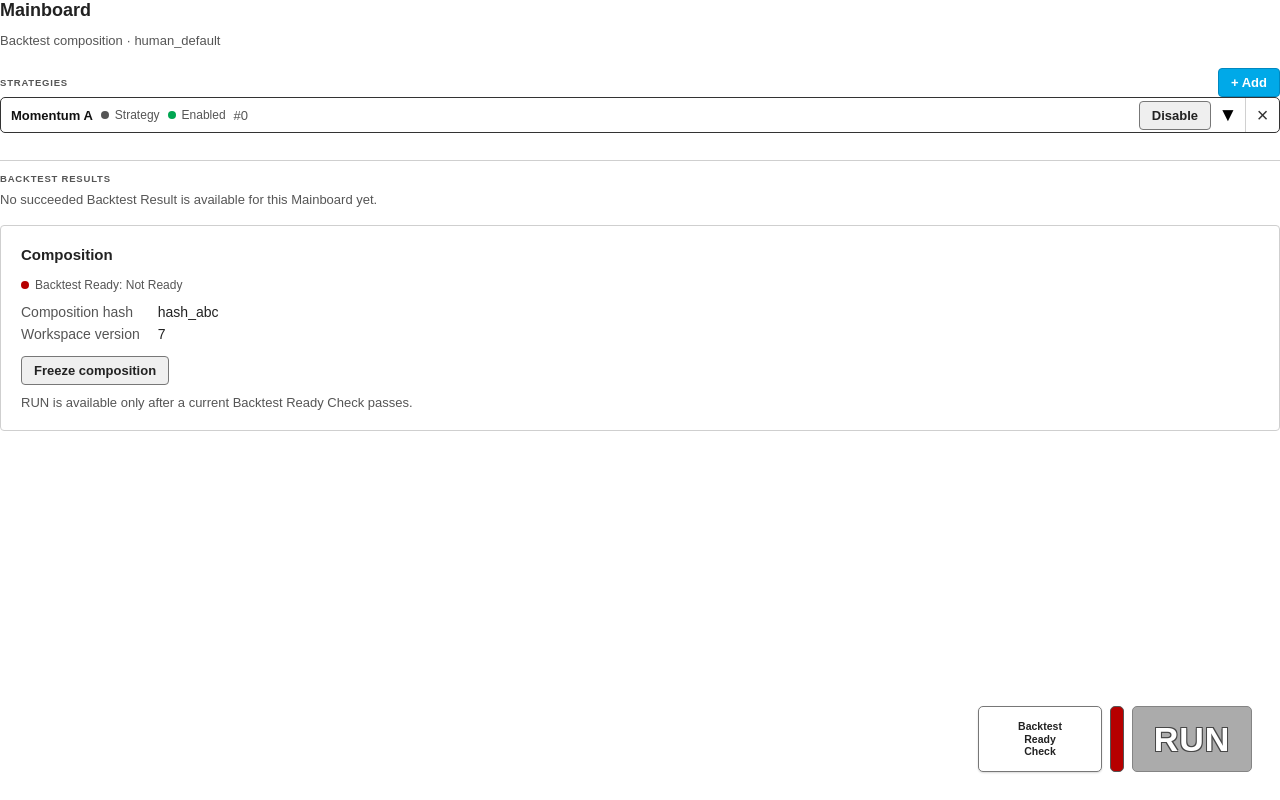
Scenario: Mainboard › expands a row into the real inline Strategy Details editor (UI-02)
Click the button named "Expand Momentum A": click(1228, 115) [1211,98,1245,132]
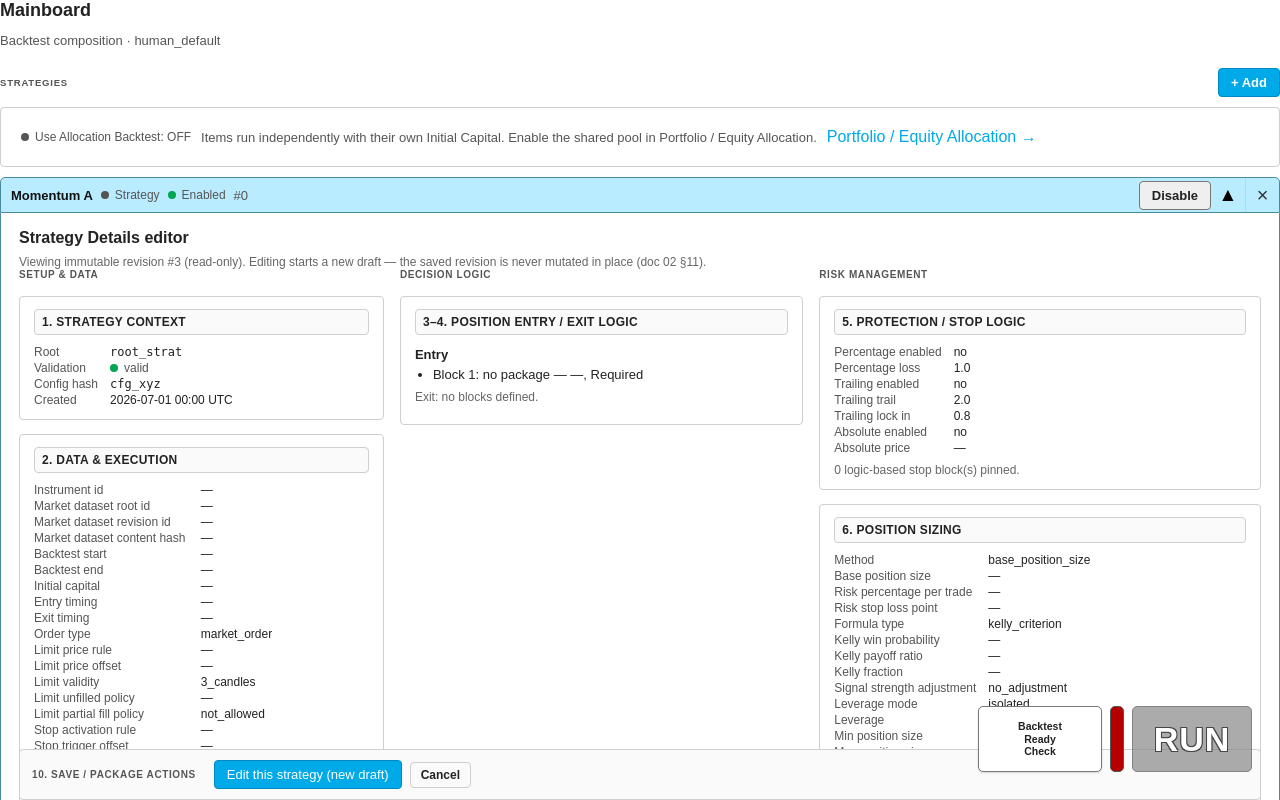
Check: the heading "1. Strategy Context" is shown, box [34,309,369,335]
Check: the text "revision #3" is shown, box [19,255,706,269]
